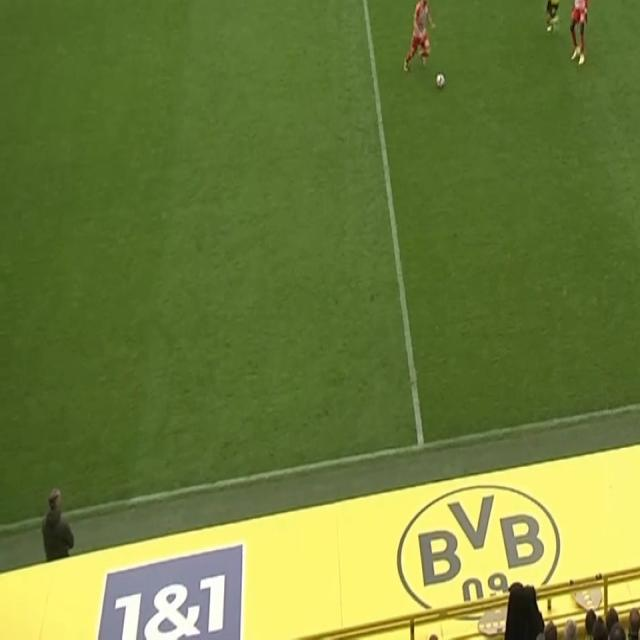ball: (434, 72, 446, 90)
